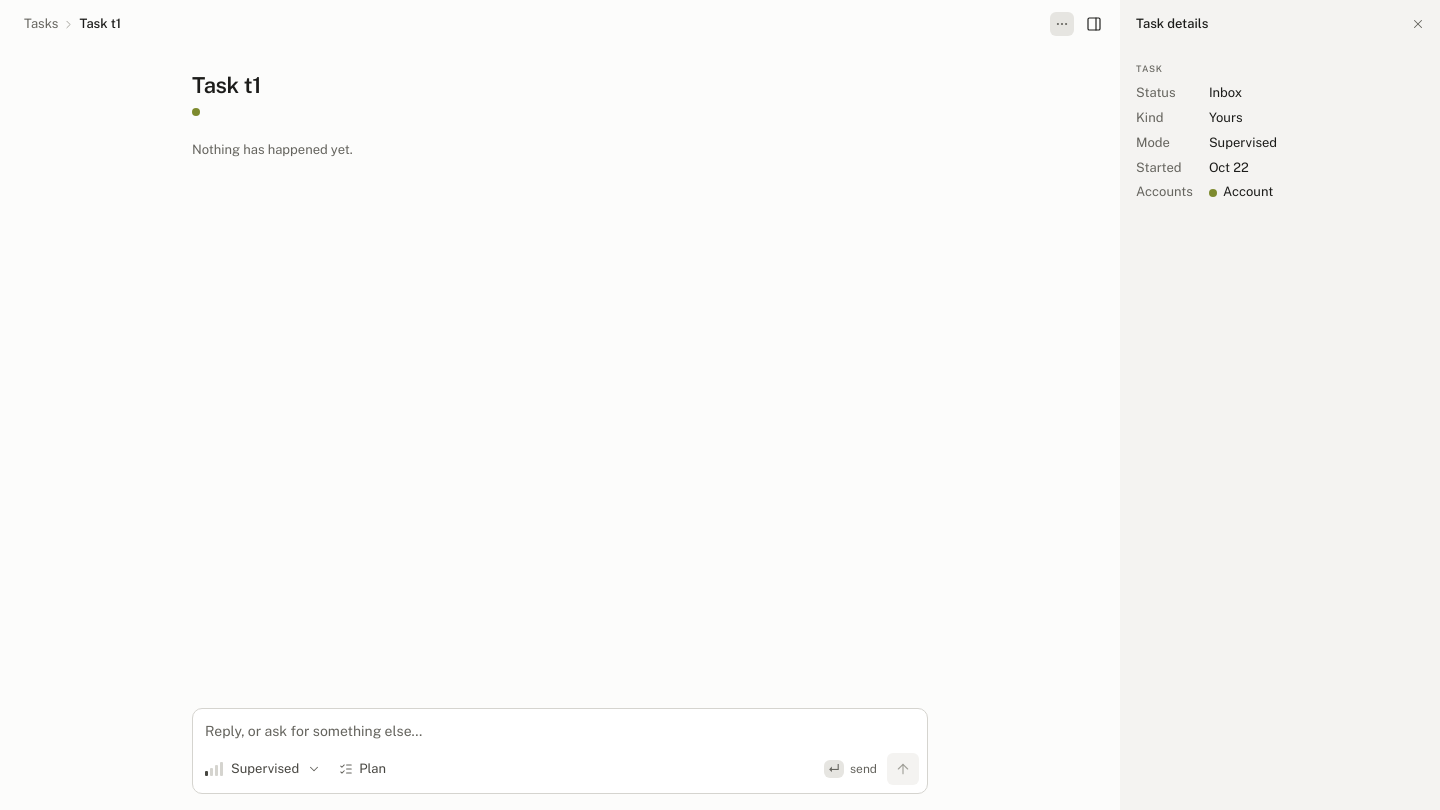
Test case: task composer › says when the server clamps the requested permission mode
Click the button with aria-label "Task permission mode: Supervised". click: coordinates (263, 769)
box: [197,755,329,783]
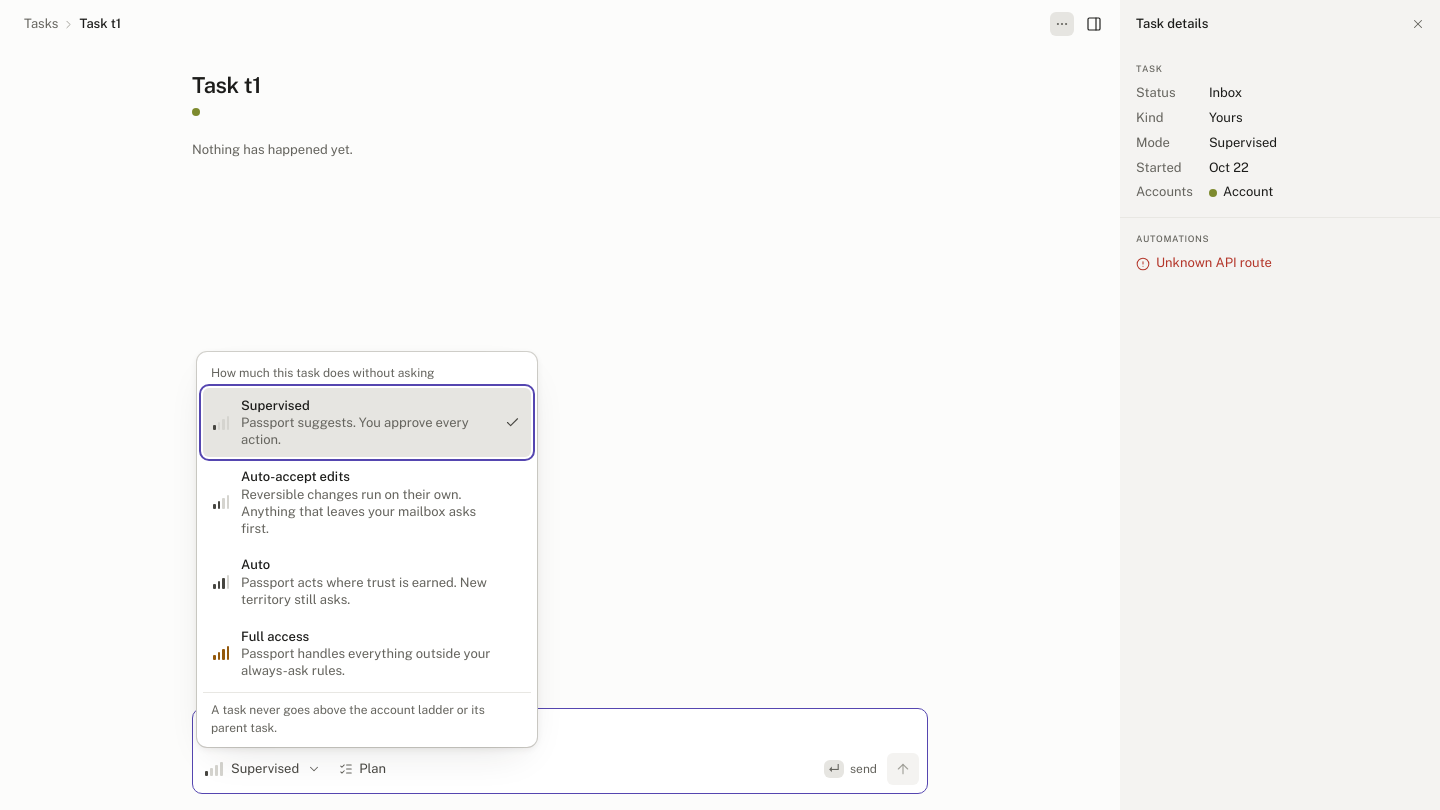
Click the radio button labelled "Full access". click: coordinates (367, 653)
box: [203,619,531,688]
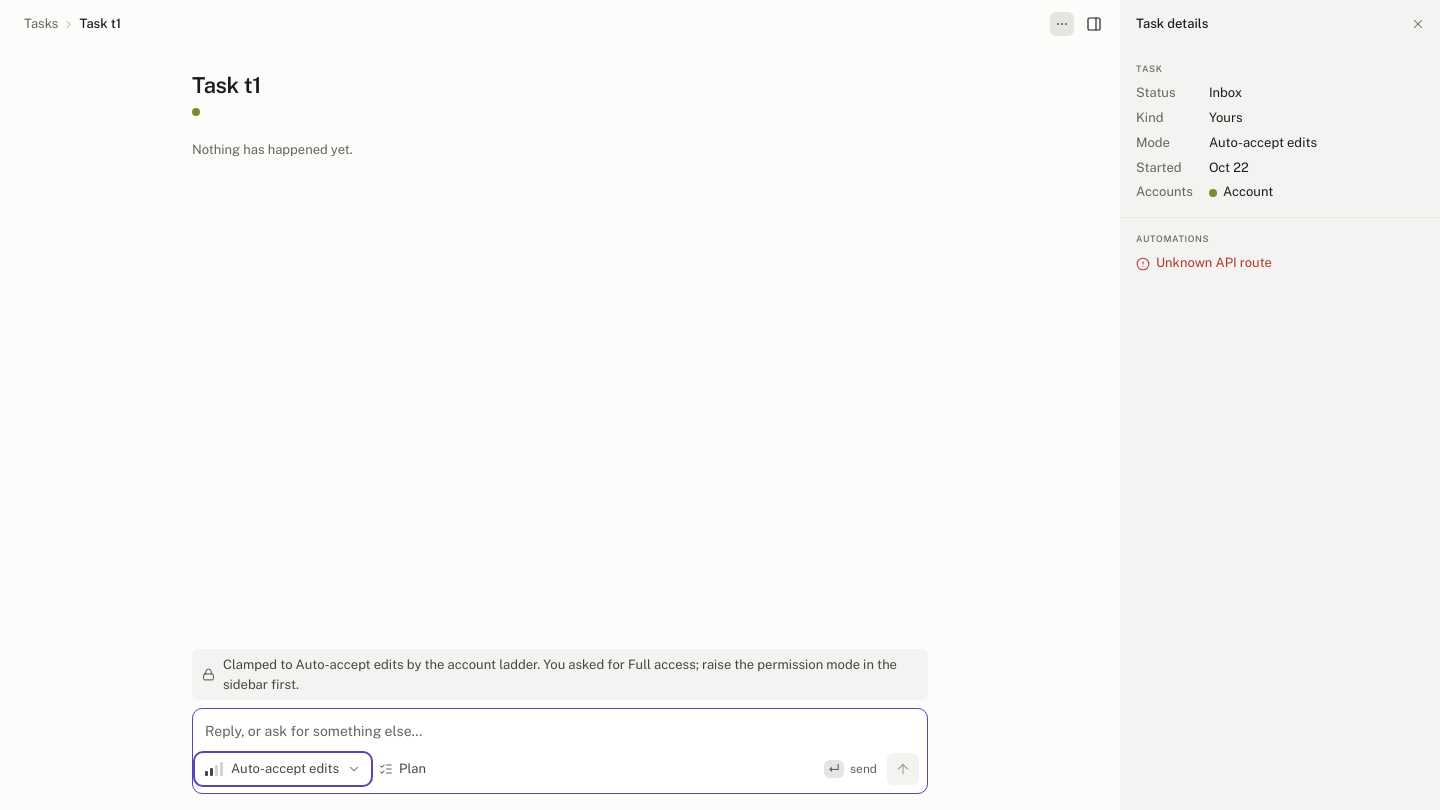
Now the message that starts with "Clamped to" shows "Clamped to Auto-accept edits by the account ladder", box [192,649,928,700]
Now the button with aria-label "Task permission mode: Auto-accept edits" is shown, box [197,755,369,783]
